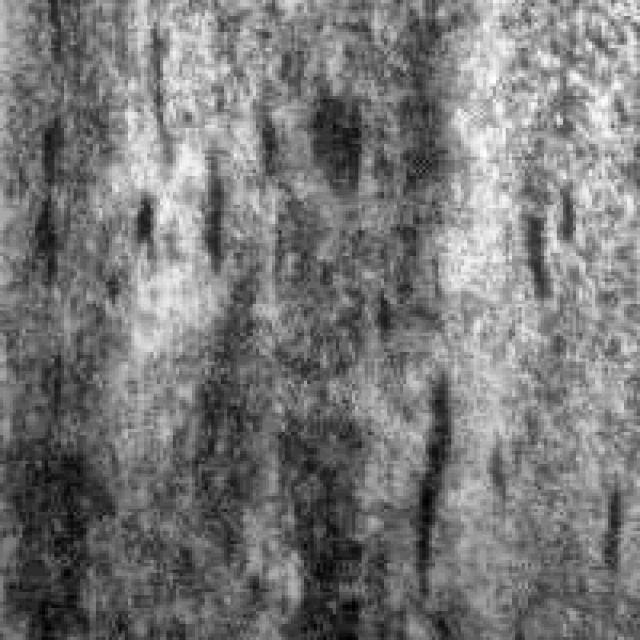Patches: (112, 16, 195, 282), (387, 362, 464, 608), (19, 92, 86, 324), (509, 188, 560, 324)
